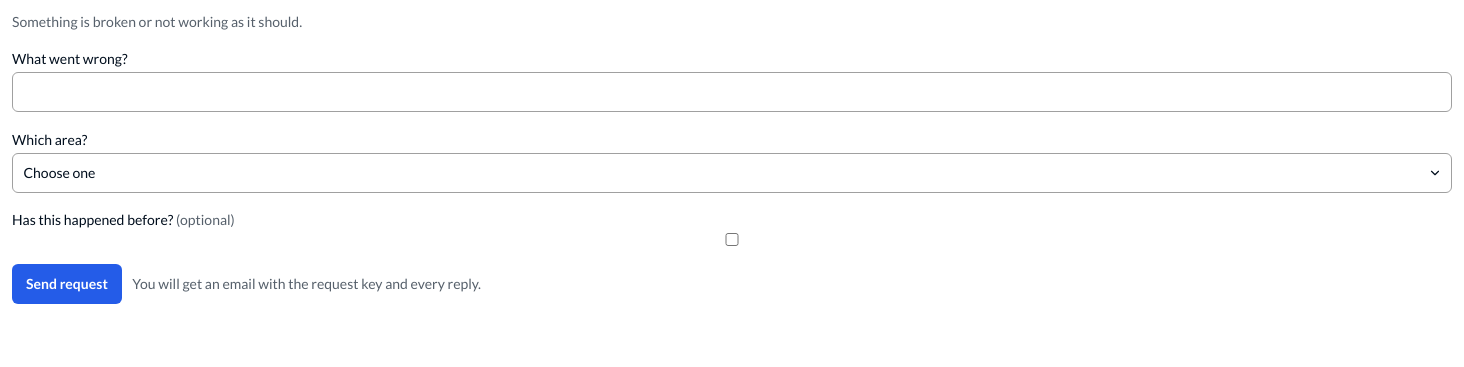
Test: the published request form › stops a required answer from being sent and says which one is needed
Click the button "Send request". click: (67, 284)
box: [12,264,122,304]
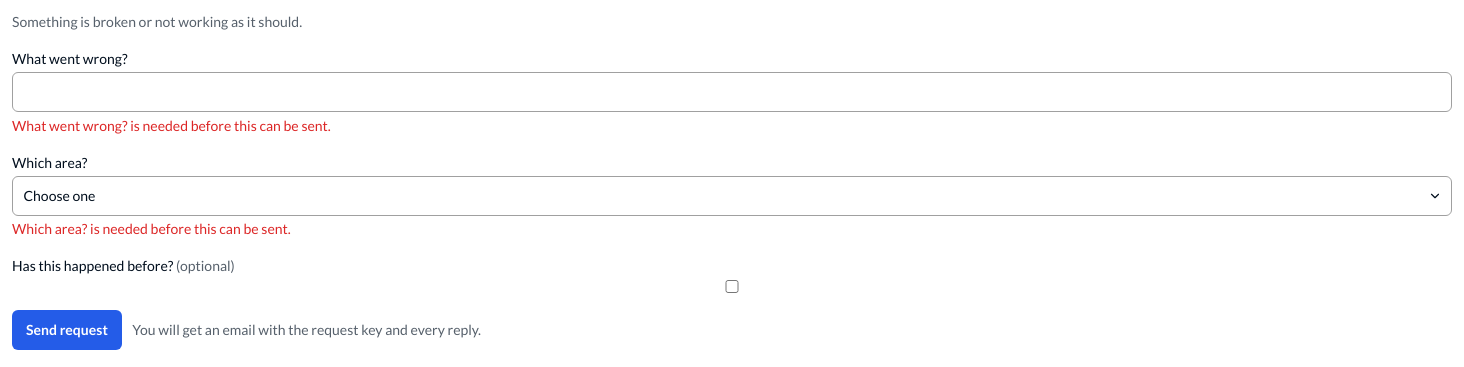
Check: the text "What went wrong? is needed before this can be sent." is shown, box [12,117,331,134]
